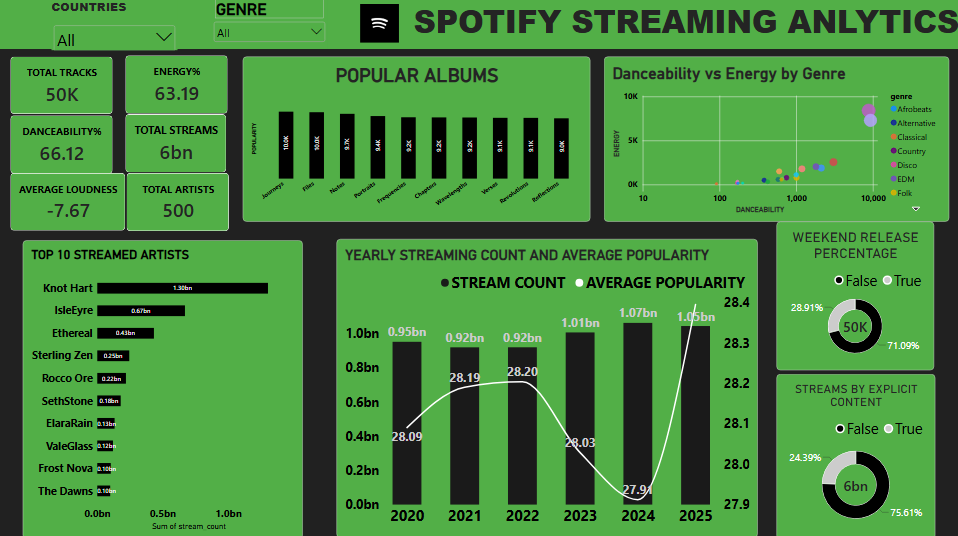

This screenshot's page, from the dashboard's own definition file:
{"tool":"powerbi","page":{"name":"Page 1","canvas":[1920,1080],"ordinal":0},"visuals":[{"type":"textbox","title":"SPOTIFY STREAMING ANLYTICS","box":[0,0,1920,100],"z":0},{"type":"cardVisual","fields":{"Data":["Sum(spotify_artist_streaming_2020_2025.stream_count)"]},"box":[252,230,202.5,117.5],"z":1000},{"type":"cardVisual","fields":{"Data":["Count(spotify_artist_streaming_2020_2025.artist_name)"]},"box":[254,348,205,117.5],"z":3000},{"type":"cardVisual","fields":{"Data":["Count(spotify_artist_streaming_2020_2025.track_id)"]},"box":[22,116,205,115],"z":4000},{"type":"clusteredBarChart","title":"TOP 10 STREAMED  ARTISTS","fields":{"Category":["spotify_artist_streaming_2020_2025.artist_name"],"Y":["Sum(spotify_artist_streaming_2020_2025.stream_count)"]},"box":[47.5,482.5,560,597.5],"z":5000},{"type":"slicer","fields":{"Values":["spotify_artist_streaming_2020_2025.genre"]},"box":[492,10,232.5,100],"z":8001},{"type":"image","box":[674,10,207.5,77.5],"z":8003},{"type":"lineStackedColumnComboChart","title":"YEARLY STREAMING COUNT AND AVERAGE POPULARITY","fields":{"Category":["spotify_artist_streaming_2020_2025.release_year"],"Y":["Sum(spotify_artist_streaming_2020_2025.stream_count)"],"Y2":["Avg(spotify_artist_streaming_2020_2025.popularity)"]},"box":[675,480,842.5,597.5],"z":8004},{"type":"donutChart","title":"WEEKEND RELEASE PERCENTAGE","fields":{"Category":["spotify_artist_streaming_2020_2025.is_weekend_release"],"Y":["CountNonNull(spotify_artist_streaming_2020_2025.is_weekend_release)"]},"box":[1555,445,315,297.5],"z":8006},{"type":"clusteredColumnChart","title":"POPULAR ALBUMS","fields":{"Category":["spotify_artist_streaming_2020_2025.album_name"],"Y":["Sum(spotify_artist_streaming_2020_2025.popularity)"]},"box":[487.5,115,695,330],"z":8007},{"type":"scatterChart","title":"Danceability vs Energy by Genre","fields":{"Category":["spotify_artist_streaming_2020_2025.genre"],"Series":["spotify_artist_streaming_2020_2025.genre"],"Size":["Sum(spotify_artist_streaming_2020_2025.stream_count)"],"X":["Sum(spotify_artist_streaming_2020_2025.danceability)"],"Y":["Sum(spotify_artist_streaming_2020_2025.energy)"]},"box":[1210,115,690,330],"z":8008},{"type":"cardVisual","fields":{"Data":["Avg(spotify_artist_streaming_2020_2025.loudness)"]},"box":[23.3,346.7,230,116.7],"z":8009},{"type":"cardVisual","fields":{"Data":["spotify_artist_streaming_2020_2025.average energy"]},"box":[252,112,205,117.5],"z":8010},{"type":"cardVisual","fields":{"Data":["spotify_artist_streaming_2020_2025.average danceability%"]},"box":[22,232,205,117.5],"z":8011},{"type":"slicer","title":"COUNTRIES","fields":{"Values":["spotify_artist_streaming_2020_2025.country"]},"box":[170,0,252,102],"z":8012},{"type":"donutChart","title":"STREAMS BY EXPLICIT CONTENT","fields":{"Category":["spotify_artist_streaming_2020_2025.explicit"],"Y":["Sum(spotify_artist_streaming_2020_2025.stream_count)"]},"box":[1555,750,317.5,330],"z":8013}]}

Visuals, with their boxes in screenshot pixels (x1, y1, x2, y2), scaled from the page's 1920x1080 canvas onto the 958x536 screenshot:
"SPOTIFY STREAMING ANLYTICS" textbox: left=0, top=0, right=957, bottom=50
cardVisual - Sum(spotify_artist_streaming_2020_2025.stream_count): left=126, top=114, right=227, bottom=172
cardVisual - Count(spotify_artist_streaming_2020_2025.artist_name): left=127, top=173, right=229, bottom=231
cardVisual - Count(spotify_artist_streaming_2020_2025.track_id): left=11, top=58, right=113, bottom=115
"TOP 10 STREAMED  ARTISTS" clusteredBarChart: left=24, top=239, right=303, bottom=535
slicer - spotify_artist_streaming_2020_2025.genre: left=245, top=5, right=361, bottom=55
image: left=336, top=5, right=440, bottom=43
"YEARLY STREAMING COUNT AND AVERAGE POPULARITY" lineStackedColumnComboChart: left=337, top=238, right=757, bottom=535
"WEEKEND RELEASE PERCENTAGE" donutChart: left=776, top=221, right=933, bottom=368
"POPULAR ALBUMS" clusteredColumnChart: left=243, top=57, right=590, bottom=221
"Danceability vs Energy by Genre" scatterChart: left=604, top=57, right=948, bottom=221
cardVisual - Avg(spotify_artist_streaming_2020_2025.loudness): left=12, top=172, right=126, bottom=230
cardVisual - spotify_artist_streaming_2020_2025.average energy: left=126, top=56, right=228, bottom=114
cardVisual - spotify_artist_streaming_2020_2025.average danceability%: left=11, top=115, right=113, bottom=173
"COUNTRIES" slicer: left=85, top=0, right=211, bottom=51
"STREAMS BY EXPLICIT CONTENT" donutChart: left=776, top=372, right=934, bottom=535
